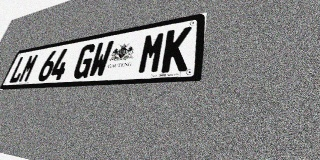4: (48, 47, 73, 81)
6: (36, 50, 60, 81)
G: (71, 43, 97, 79)
K: (160, 26, 192, 73)
L: (8, 55, 29, 83)
M: (136, 31, 167, 74), (17, 53, 40, 83)
W: (87, 40, 114, 78)
